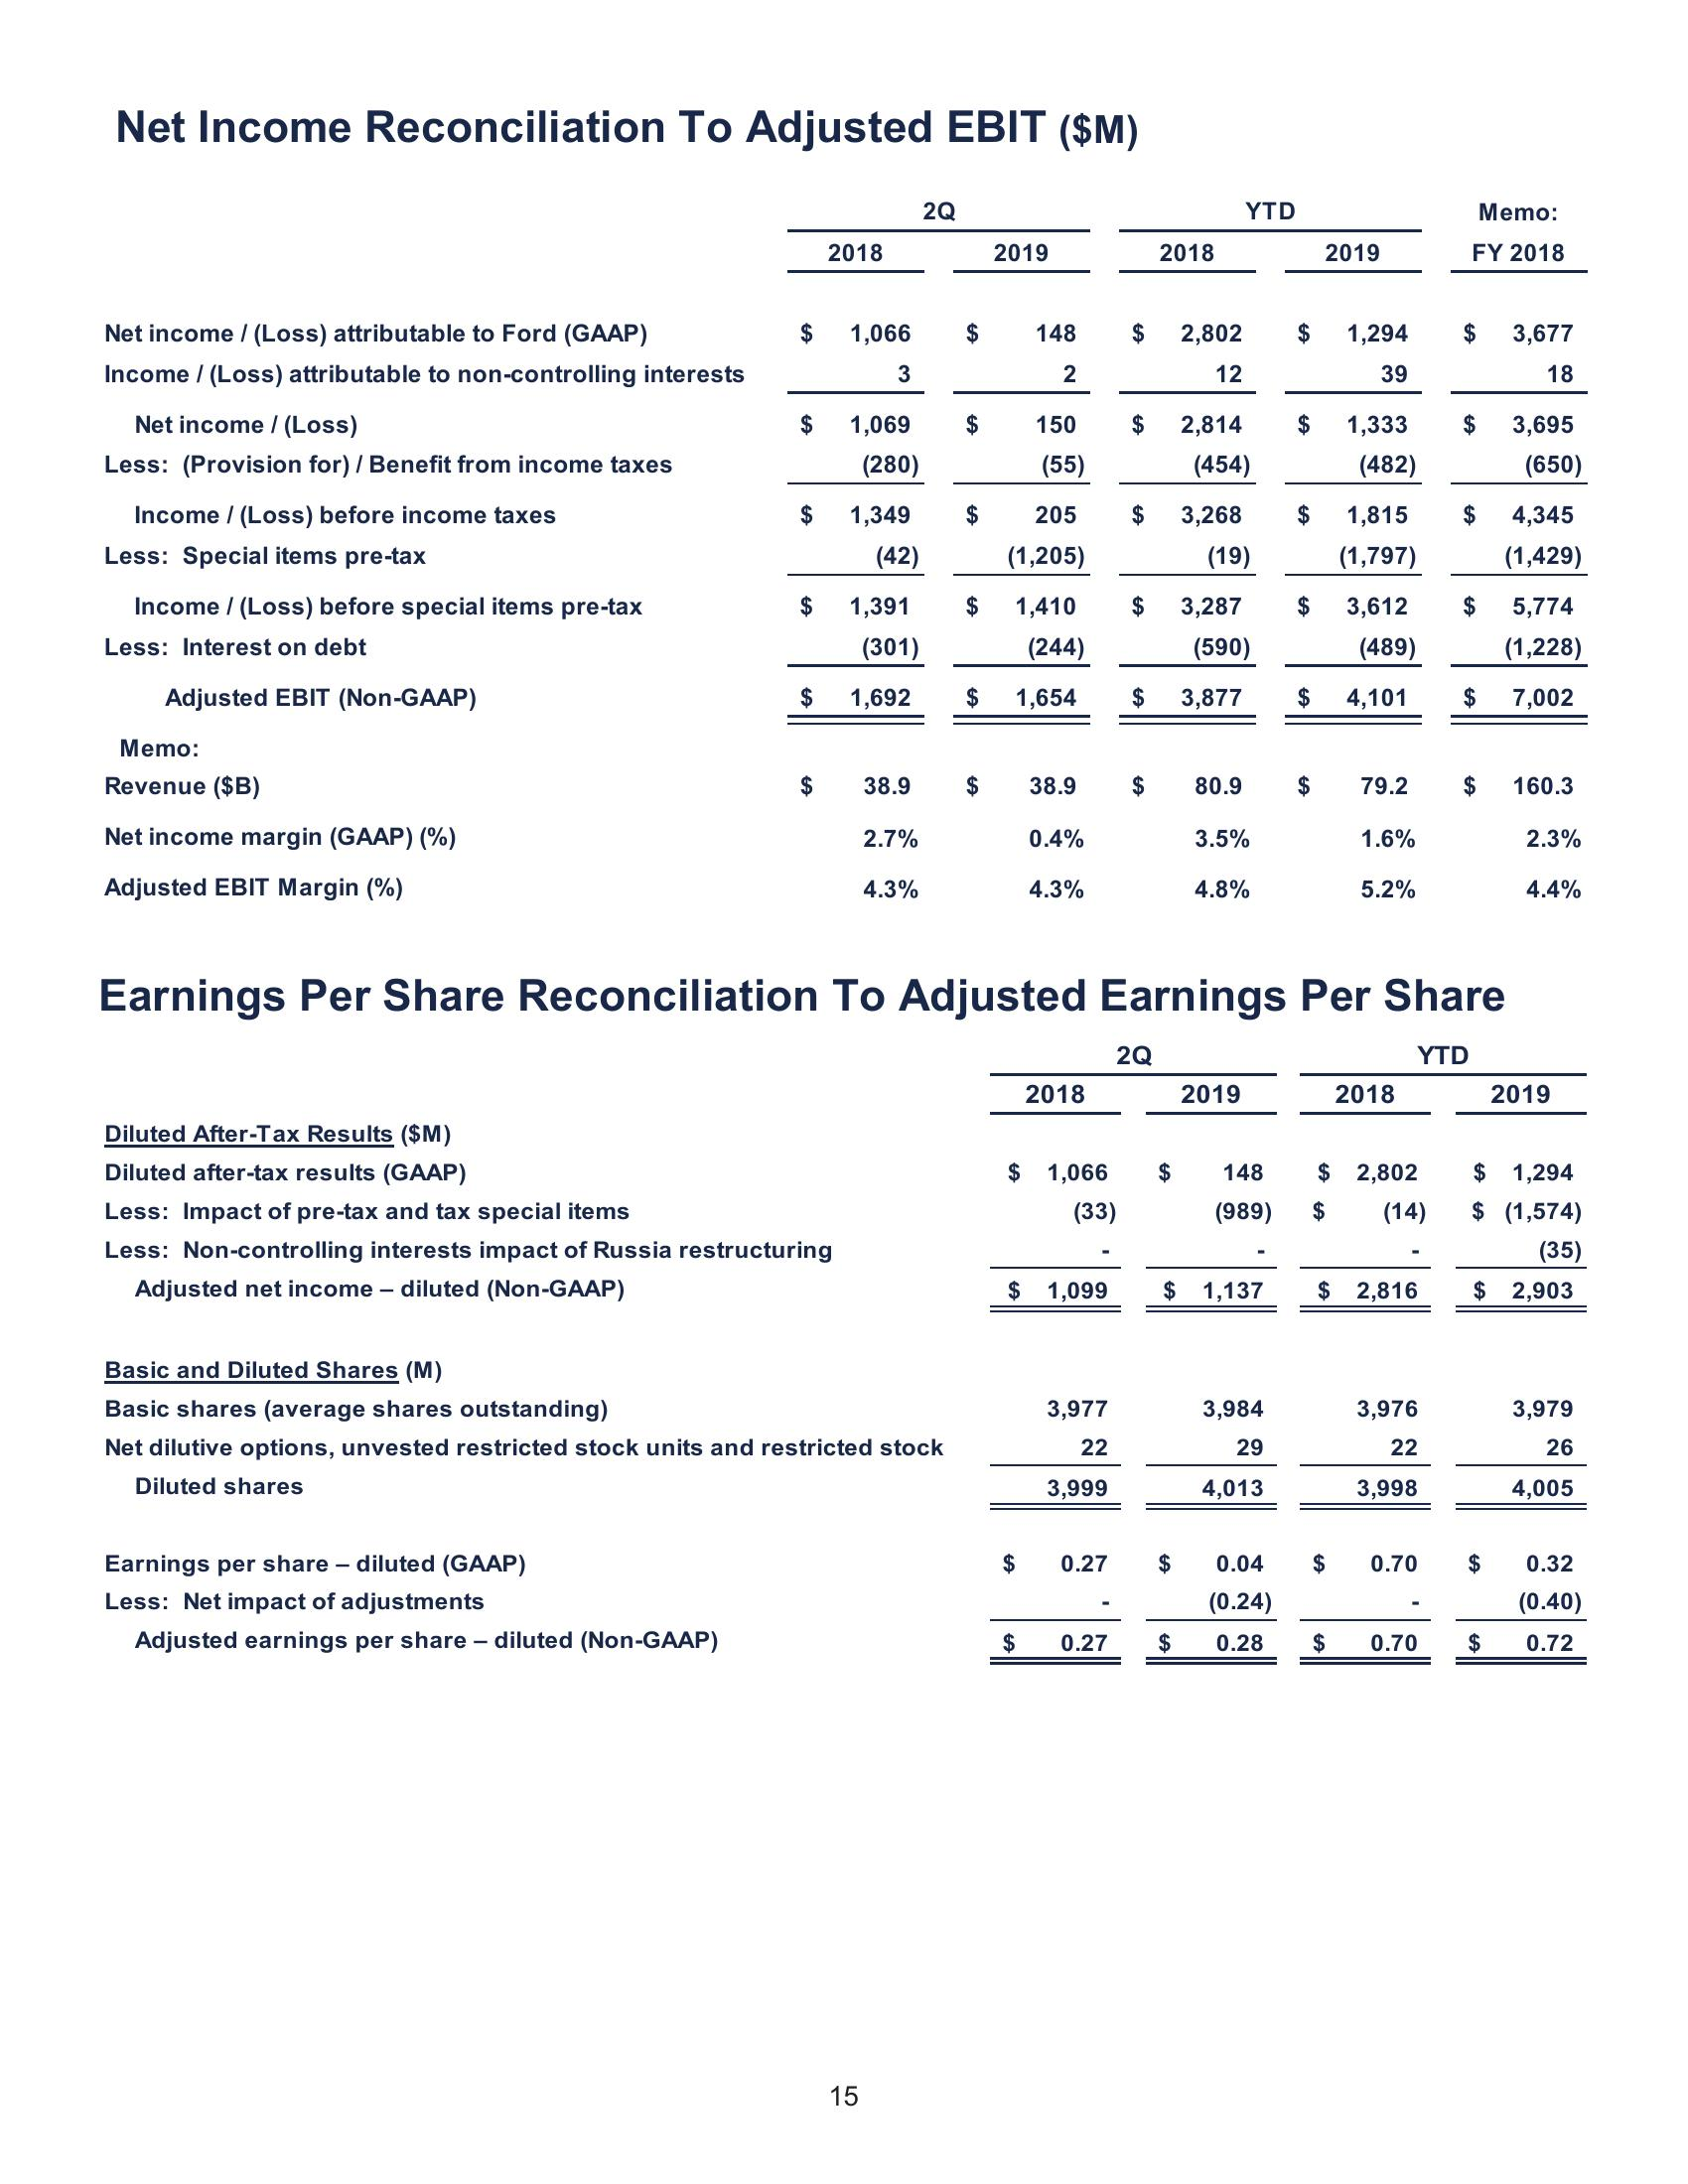table: (96, 191, 1594, 906), (94, 1035, 1594, 1673)
